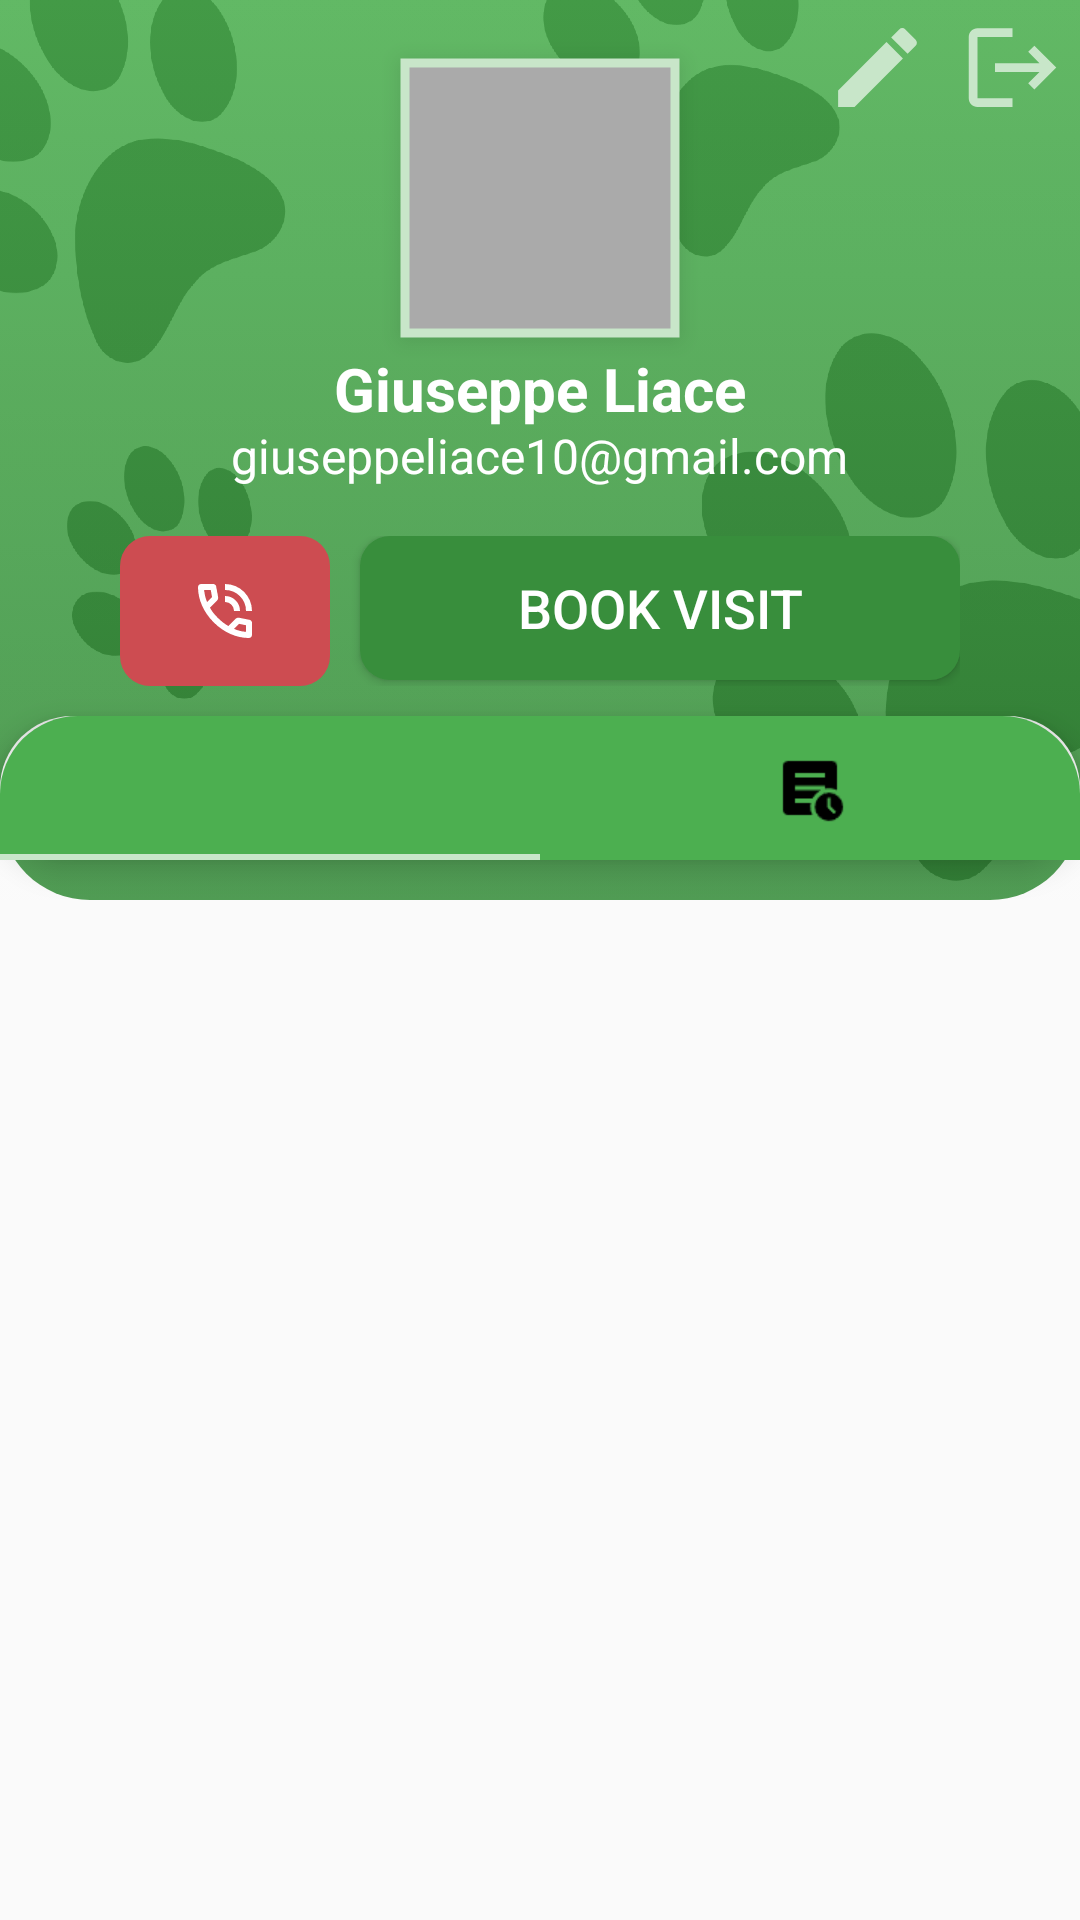

Screen size 1080px x 1920px. Icon name, then its box in pixels as (x1, y1, x2, y2):
call: (120, 536, 330, 686)
edit: (838, 28, 917, 107)
